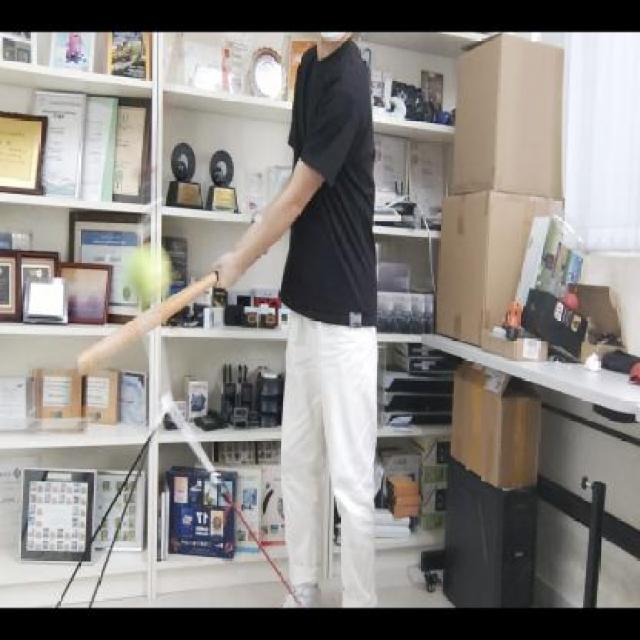baseball: (128, 242, 172, 304)
